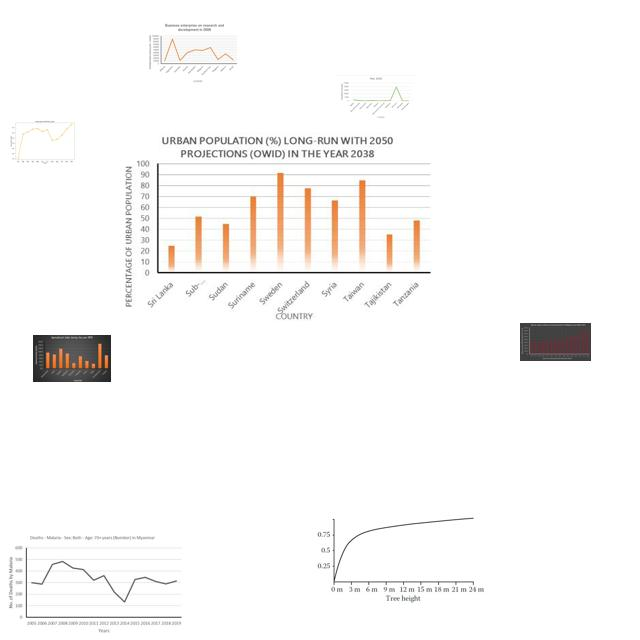Graph: (120, 132, 438, 321), (4, 533, 186, 637), (314, 508, 485, 606), (147, 23, 239, 86), (6, 115, 82, 167), (33, 335, 111, 382), (338, 75, 414, 121), (520, 323, 591, 361)
